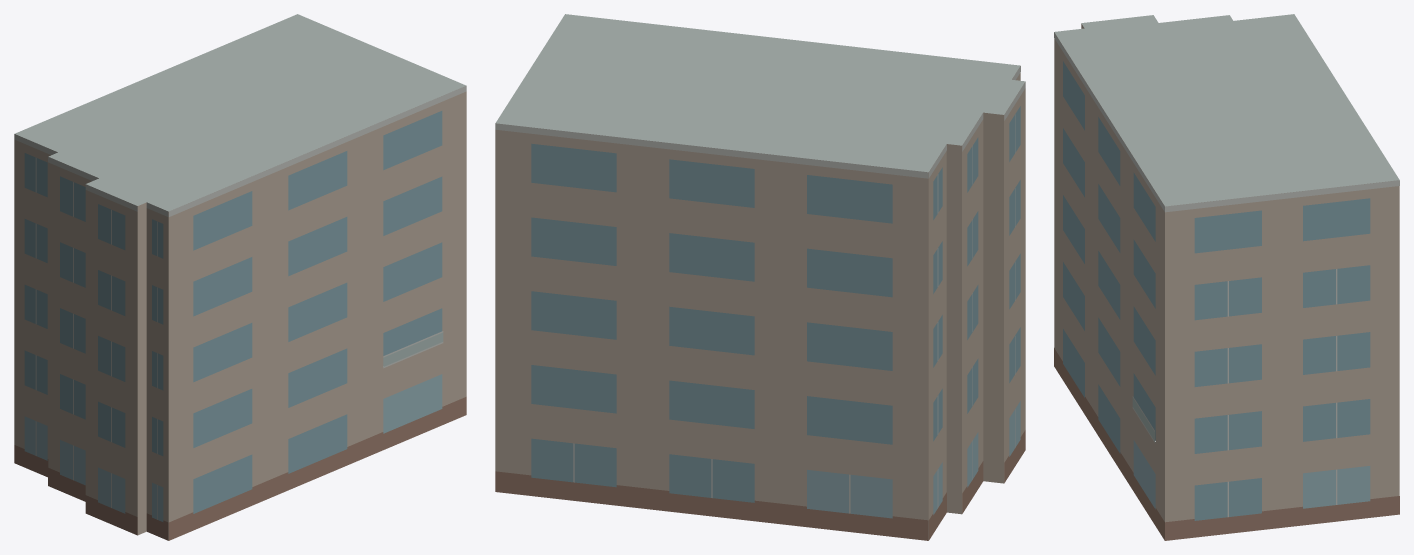
Rendered from survey-upis-32664360.glb.
3 views of the same model, side by side, from view 1: azimuth 30°, elevation 25°; view 2: azimuth 150°, elevation 25°; view 3: azimuth 270°, elevation 25° (orthographic). The views are drawn at different scales.
Visible parts, largest first — view 1: survey-upis-32664360.tmp; view 2: survey-upis-32664360.tmp; view 3: survey-upis-32664360.tmp.
Part boxes in pixels (<box>): survey-upis-32664360.tmp: <box>14,14,466,540</box>; survey-upis-32664360.tmp: <box>495,14,1025,540</box>; survey-upis-32664360.tmp: <box>1054,14,1399,540</box>.
Bounding box in the file's own units: 17.3 × 14 × 13.13.
